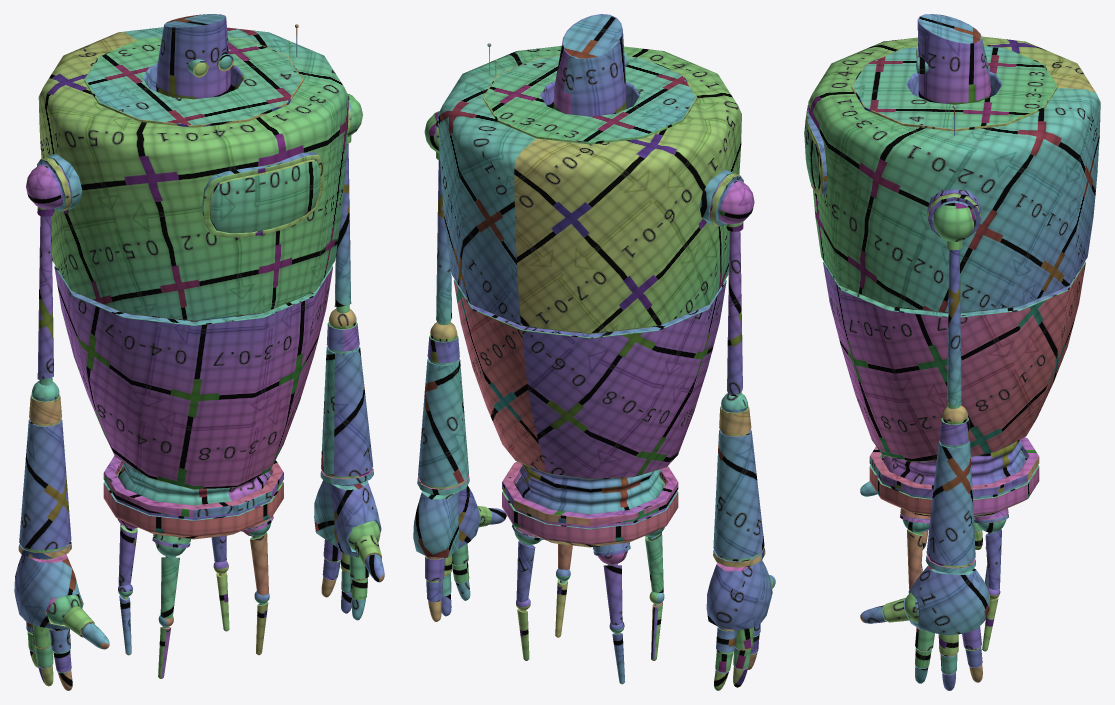
The model's file is First Robot UV.fbx.
3 views of the same model, side by side, from view 1: azimuth 30°, elevation 25°; view 2: azimuth 150°, elevation 25°; view 3: azimuth 270°, elevation 25° (orthographic). The views are drawn at different scales.
Visible parts, largest first — view 1: Torso_Geo, R_Elbow_Geo, Hip_Geo, R_Elbow_Geo2, Head_Geo, R_Shoulder_Geo, R_Hand_Geo, R_Hand_Geo2, Spine_Geo, R_Shoulder_Geo2, R_FT_Thigh_Geo, R_Finger_01_Joint_01_Geo (+7 smaller); view 2: Torso_Geo, Hip_Geo, R_Elbow_Geo, R_Elbow_Geo2, Head_Geo, Spine_Geo, R_Hand_Geo, R_Hand_Geo2, R_Shoulder_Geo, R_Shoulder_Geo2, R_BK_Thigh_Geo, L_BK_Thigh_Geo (+5 smaller); view 3: Torso_Geo, R_Elbow_Geo2, Head_Geo, Hip_Geo, R_Hand_Geo2, R_Shoulder_Geo2, Spine_Geo, L_BK_Thigh_Geo, L_FT_Thigh_Geo, R_Finger_01_Joint_01_Geo2, L_BK_Knee_Geo.
Part boxes in pixels (<box>): Torso_Geo: <box>37,24,350,489</box>; R_Elbow_Geo: <box>18,381,71,558</box>; Hip_Geo: <box>103,456,283,547</box>; R_Elbow_Geo2: <box>320,308,373,484</box>; Head_Geo: <box>156,14,233,99</box>; R_Shoulder_Geo: <box>26,164,62,385</box>; R_Hand_Geo: <box>14,554,83,629</box>; R_Hand_Geo2: <box>314,480,381,556</box>; Spine_Geo: <box>118,461,269,505</box>; R_Shoulder_Geo2: <box>334,93,362,313</box>; R_FT_Thigh_Geo: <box>155,543,185,618</box>; R_Finger_01_Joint_01_Geo: <box>46,594,94,637</box>; Torso_Geo: <box>436,43,743,479</box>; Hip_Geo: <box>502,462,678,555</box>; R_Elbow_Geo: <box>713,393,765,567</box>; R_Elbow_Geo2: <box>417,322,469,495</box>; Head_Geo: <box>553,14,629,116</box>; Spine_Geo: <box>516,464,663,514</box>; R_Hand_Geo: <box>706,560,772,629</box>; R_Hand_Geo2: <box>413,485,480,558</box>; R_Shoulder_Geo: <box>718,180,754,396</box>; R_Shoulder_Geo2: <box>424,111,451,325</box>; R_BK_Thigh_Geo: <box>598,551,627,625</box>; L_BK_Thigh_Geo: <box>514,532,540,602</box>; Torso_Geo: <box>804,36,1100,461</box>; R_Elbow_Geo2: <box>925,405,975,573</box>; Head_Geo: <box>916,14,991,104</box>; Hip_Geo: <box>869,437,1039,523</box>; R_Hand_Geo2: <box>910,565,989,635</box>; R_Shoulder_Geo2: <box>933,200,975,408</box>; Spine_Geo: <box>883,440,1025,485</box>; L_BK_Thigh_Geo: <box>977,519,1006,590</box>; L_FT_Thigh_Geo: <box>902,519,929,589</box>; R_Finger_01_Joint_01_Geo2: <box>884,592,919,622</box>; L_BK_Knee_Geo: <box>982,587,1000,651</box>.
Size of the model in its own units: 9.17 by 16.07 by 7.09.
